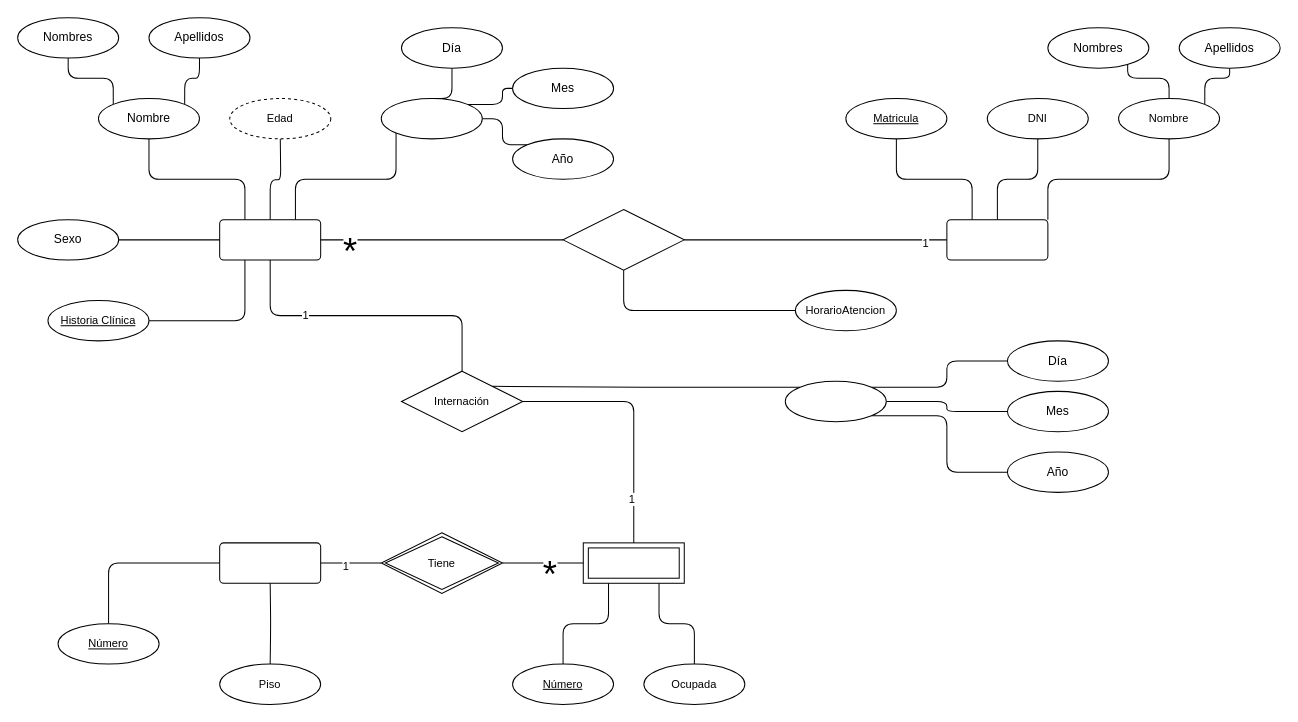
This 1298x722 diagram has some shape labels left out. The shapes that lost their labels are listed below. From the top down, each one's box as (x1, y1, x2, y2) in pixels, then its label:
(380, 97, 482, 139): FechaNacimiento
(219, 219, 321, 260): Paciente
(562, 209, 684, 270): Atiende
(946, 219, 1048, 260): Doctor
(784, 380, 886, 422): Fecha
(219, 542, 321, 583): Habitación
(582, 542, 684, 583): Cama
